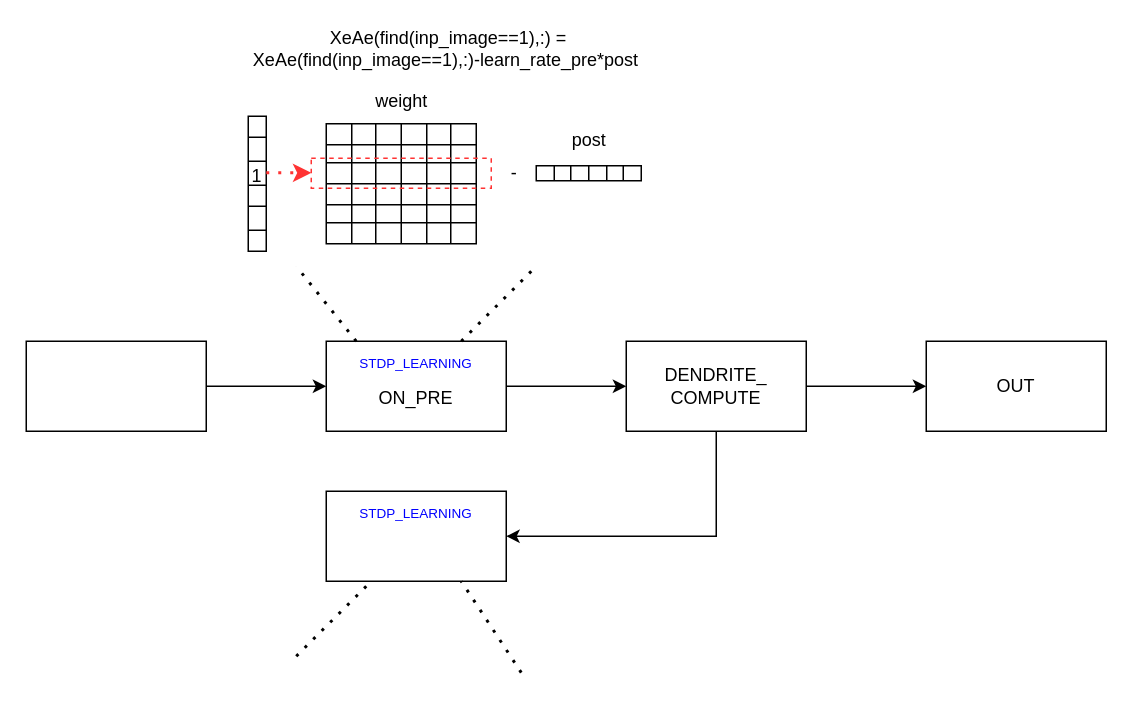
Some shapes in this 1133 by 701 pixel diagram are drawn without their labels. Each missing label, with the box of its shape:
IN: (25, 340, 206, 431)
ON_POST: (325, 490, 506, 581)
